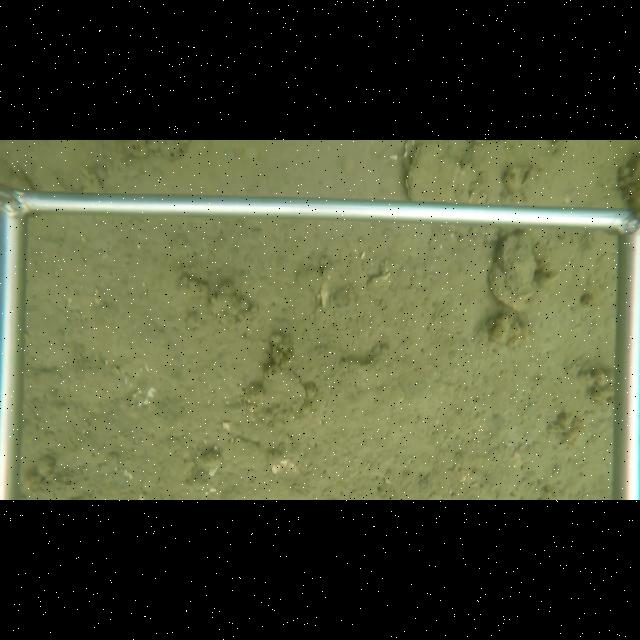Oyster-Closed: (404, 141, 481, 204), (486, 230, 540, 316), (242, 367, 309, 428)
Oyster-Open: (519, 164, 538, 190)
